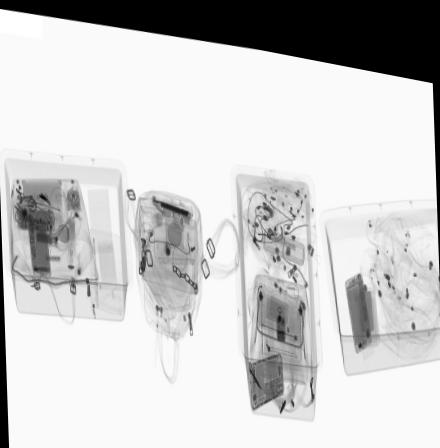Powerbank: (357, 271, 373, 315)
